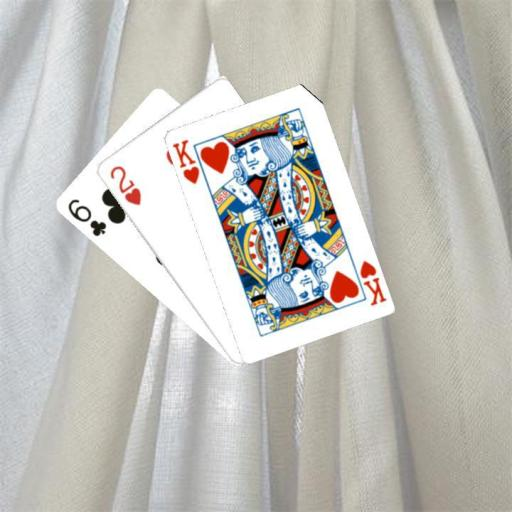2H: (106, 162, 143, 207)
6C: (64, 196, 107, 238)
KH: (169, 136, 201, 186), (355, 257, 387, 307)
